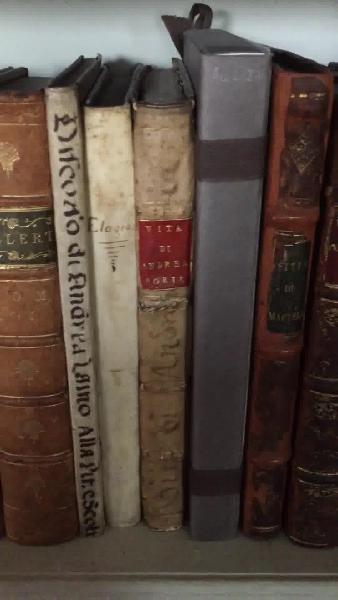Aa6-24: (40, 84, 111, 538)
Aa6-25: (83, 103, 148, 543)
Aa6-26: (129, 90, 195, 538)
Aa6-27: (180, 25, 260, 534)
Aa6-28: (241, 59, 316, 539)
